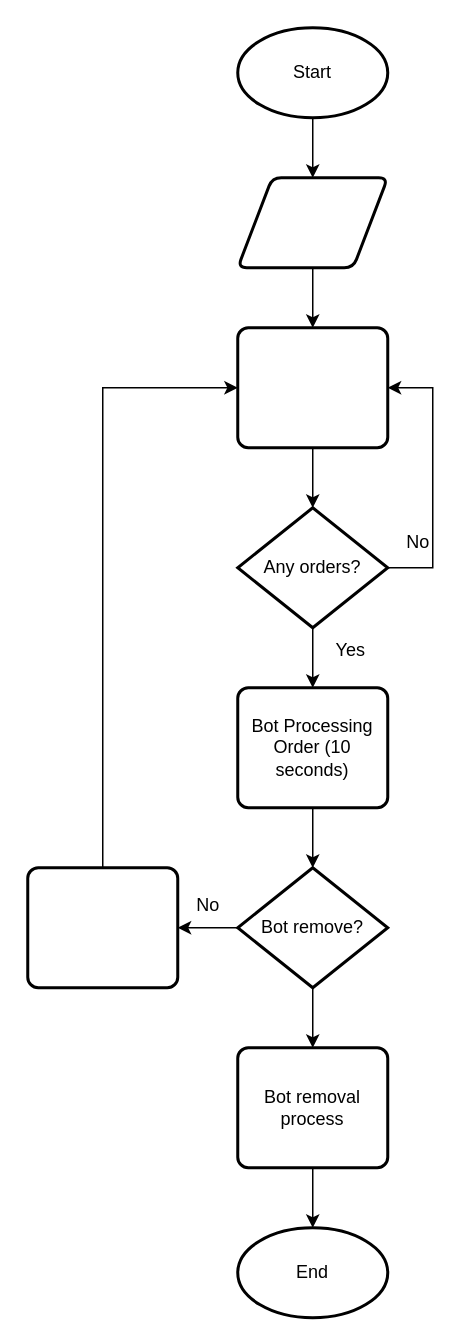
This 473x1344 diagram has some shape labels left out. Here are the shapes that lost their labels. From the top down, the centre of each, then its label:
At point 312,222: "Add a bot".
At point 312,387: "Look for order in pending area".
At point 102,927: "Move to complete area".
